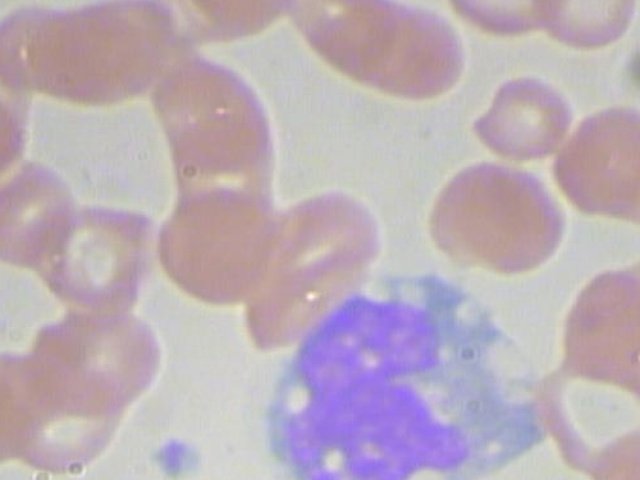Platelets: (144, 429, 201, 480)
RBC: (150, 178, 290, 307), (34, 294, 164, 417), (28, 0, 167, 111), (450, 165, 573, 282), (0, 368, 125, 479), (359, 2, 473, 103), (549, 104, 640, 224), (472, 68, 582, 163), (554, 255, 640, 370), (557, 257, 640, 373), (0, 156, 81, 274), (528, 0, 639, 56), (441, 0, 556, 45), (589, 412, 640, 480)
WBC: (253, 273, 553, 480)
